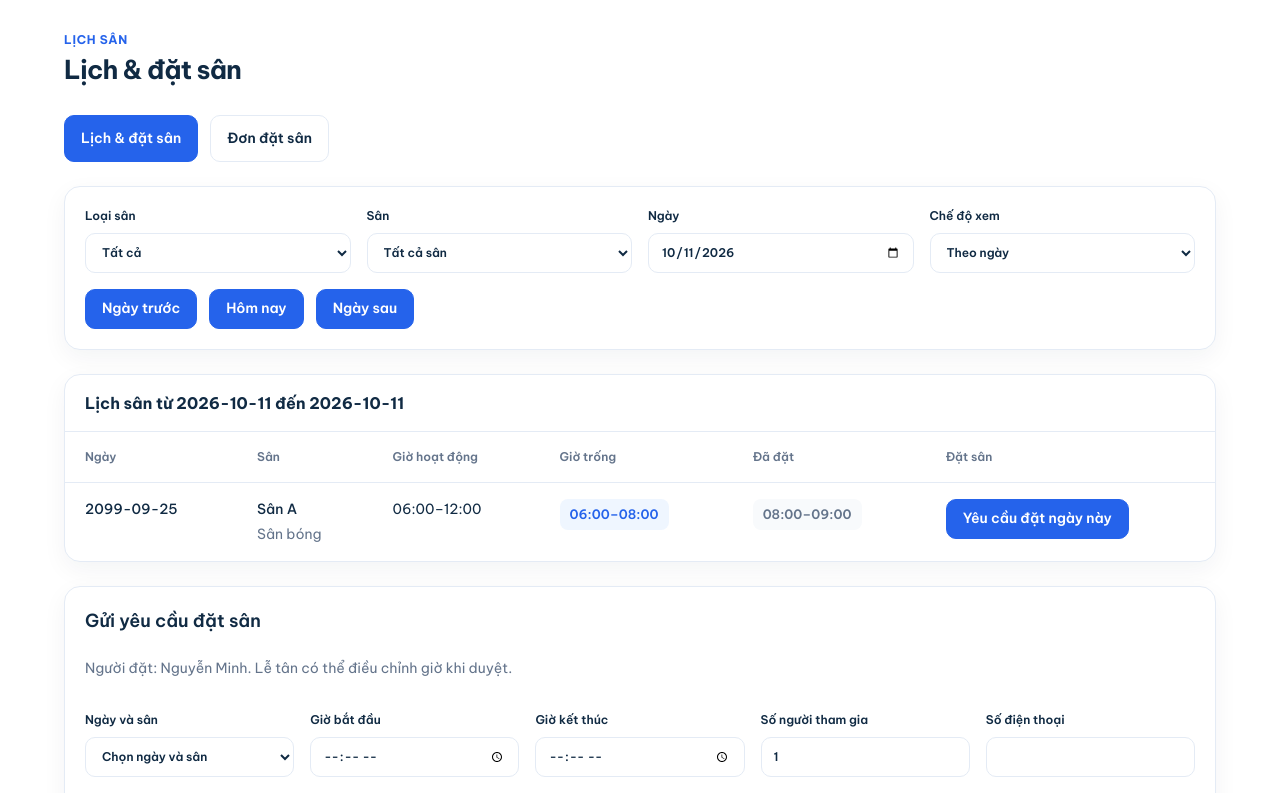
facility calendar › lets a permitted member submit a request with profile name shown
The width and height of the screenshot is (1280, 793).
Expected: the text "Sân A" is shown, [257,500,297,518]
Expected: the text "Người đặt: Nguyễn Minh" is shown, [85,659,512,677]
Click the button "Yêu cầu đặt ngày này" at (1037, 519), box [946,499,1129,539]
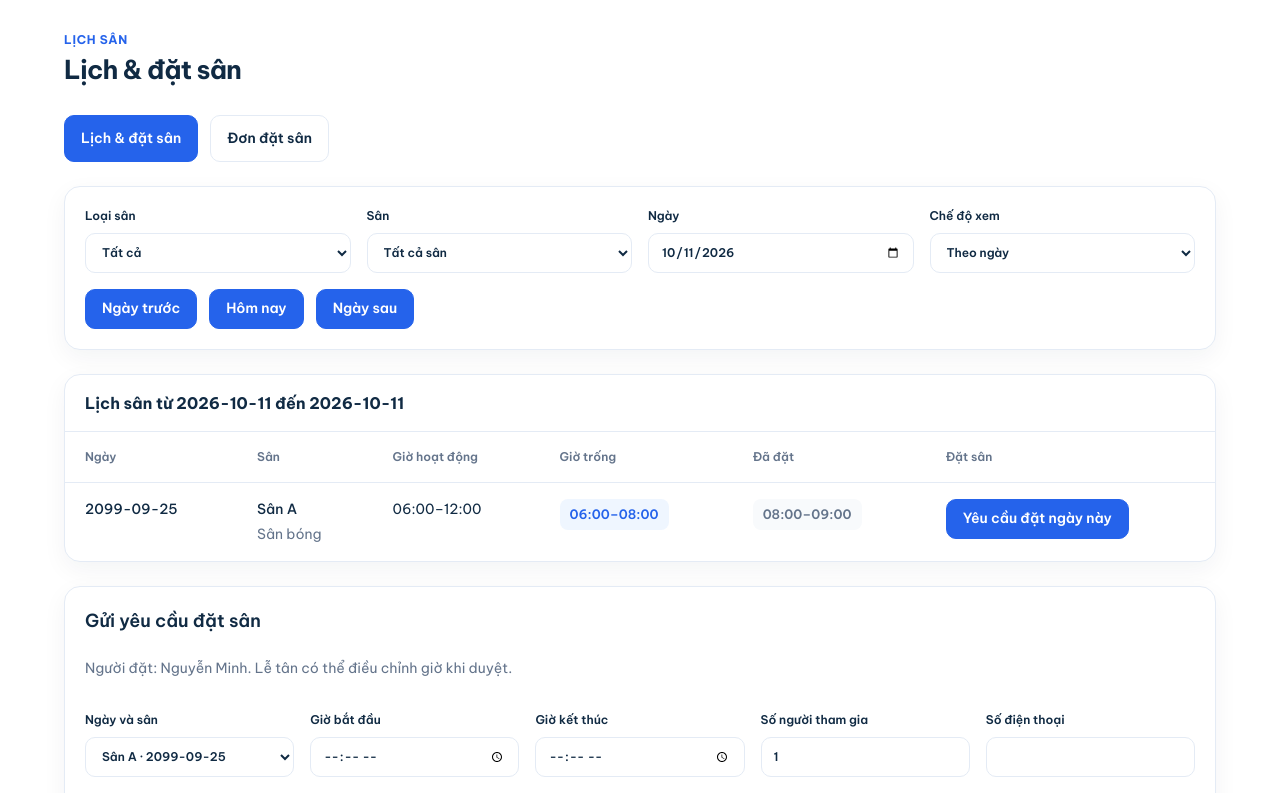
Type "07:00" into the time field labelled "Giờ bắt đầu" at (415, 757), box [310,737,519,777]
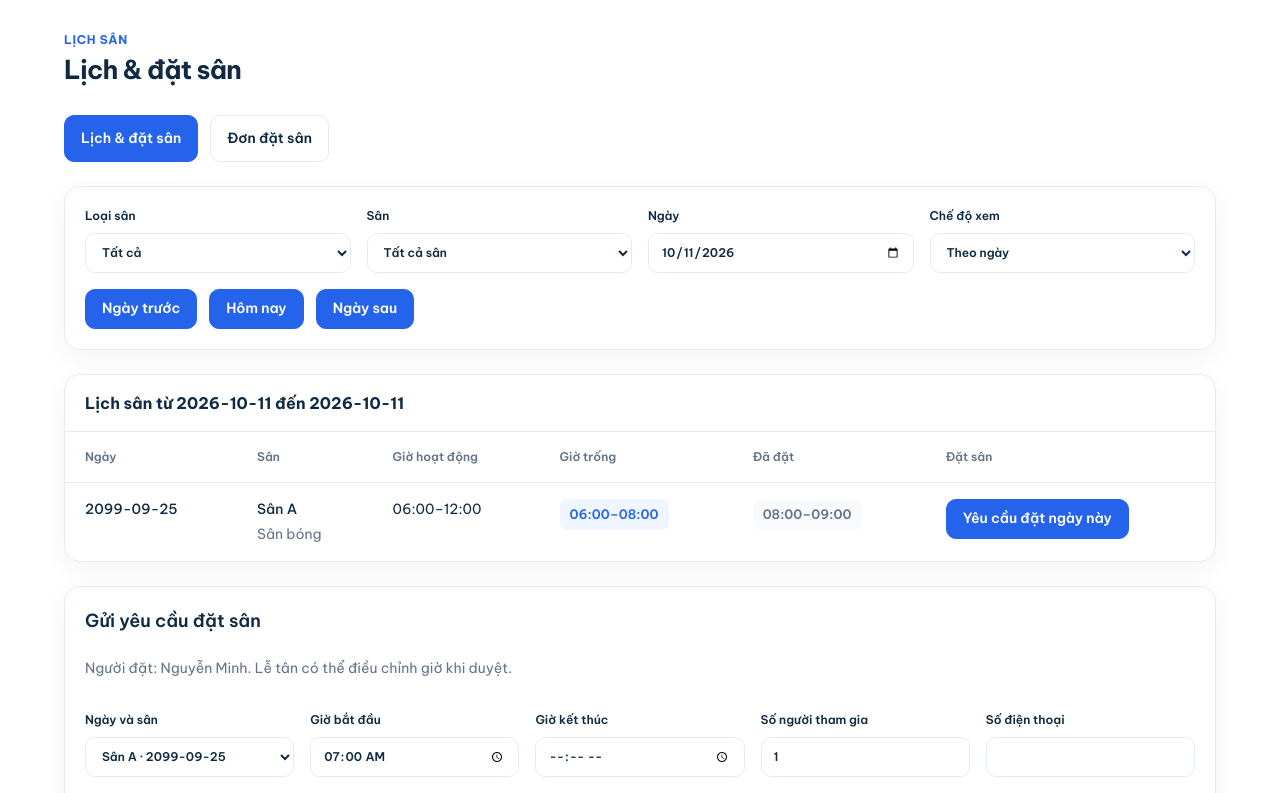
Type "08:00" into the time field labelled "Giờ kết thúc" at (640, 757), box [535,737,745,777]
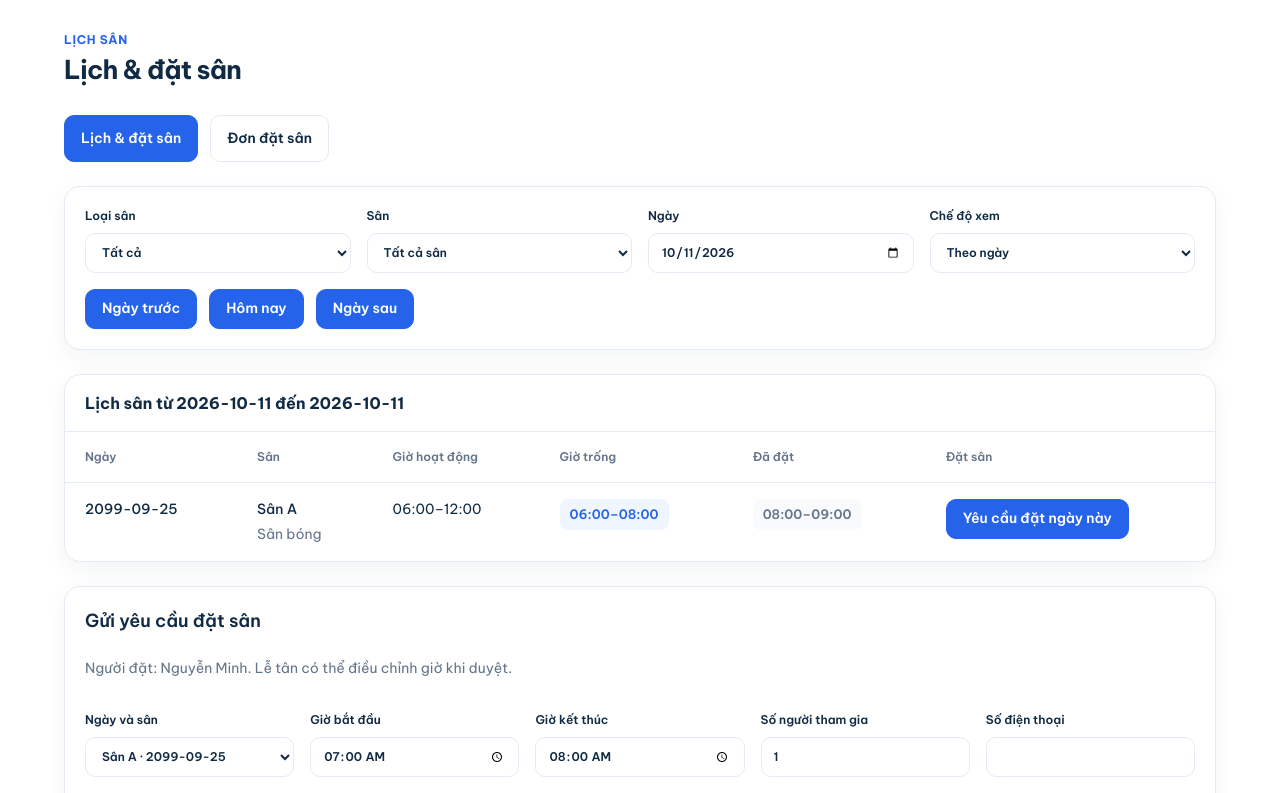
Type "0901234567" into the field labelled "Số điện thoại" at (1090, 757), box [986,737,1195,777]
(page scrolled)
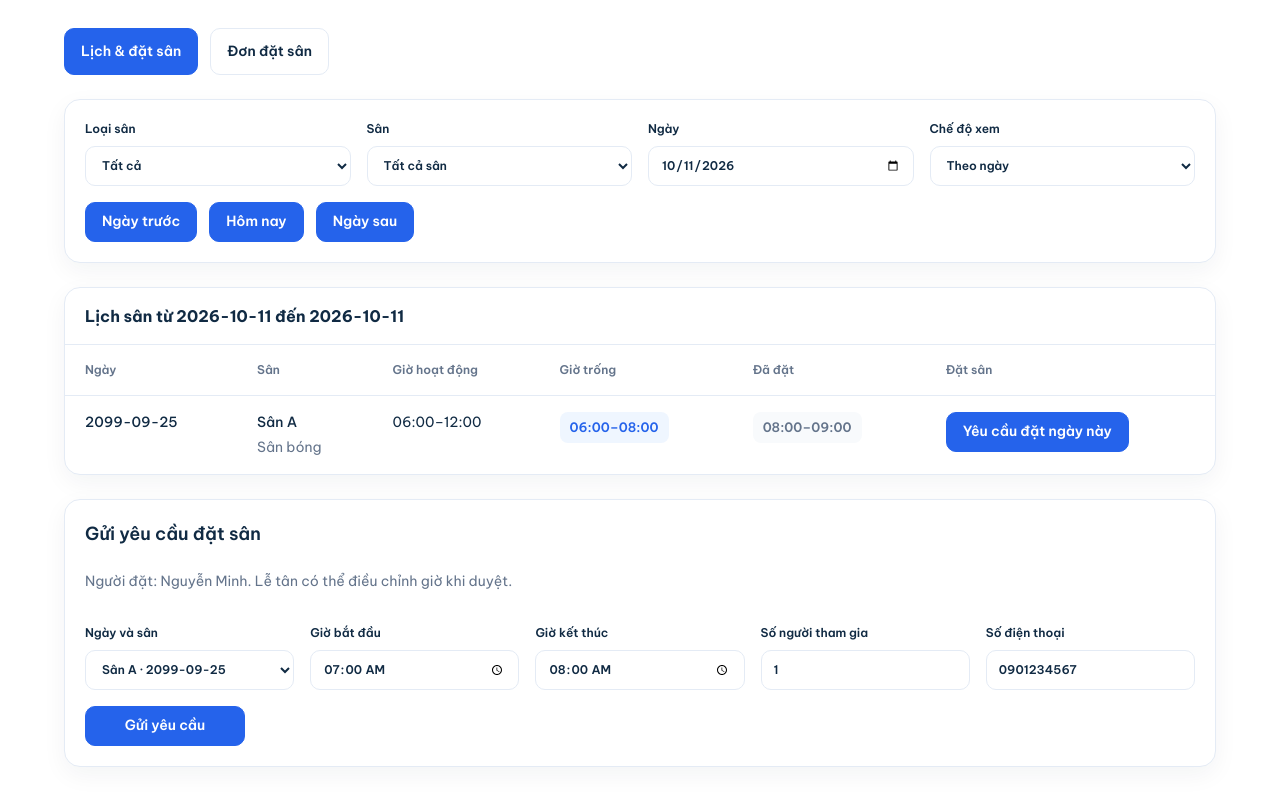
Click the button "Gửi yêu cầu" at (165, 726), box [85,706,245,746]
(page scrolled)
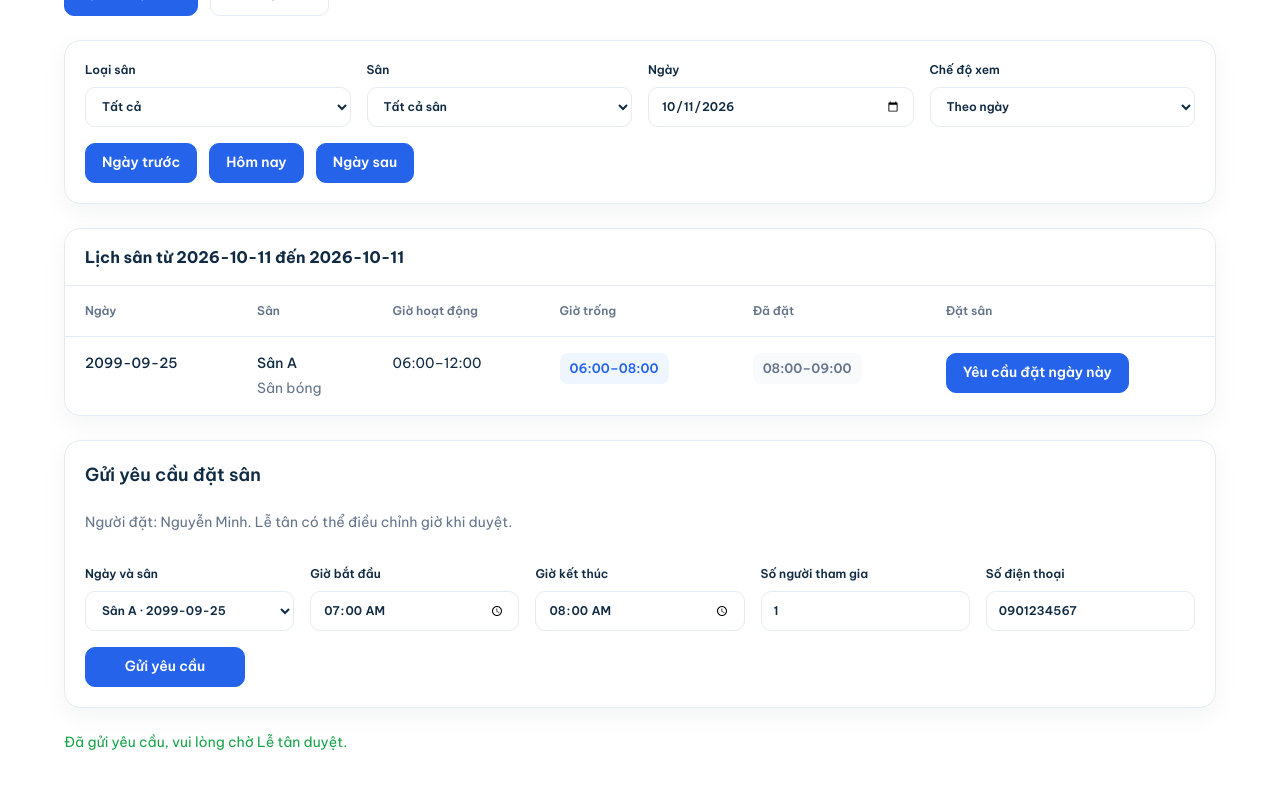
Now the text "Đã gửi yêu cầu, vui lòng chờ Lễ tân duyệt." is shown, box [64,733,347,751]
